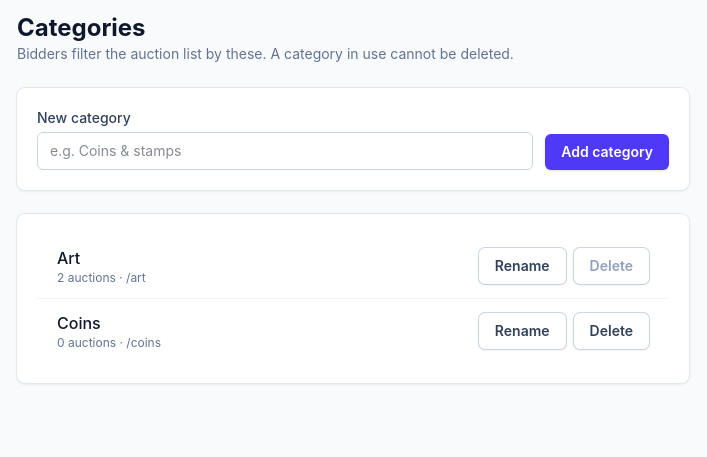
Test: <AdminCategoriesPage> › asks for a name instead of sending an empty one
Click the button "Add category" at [607, 152], box [545,134,669,170]
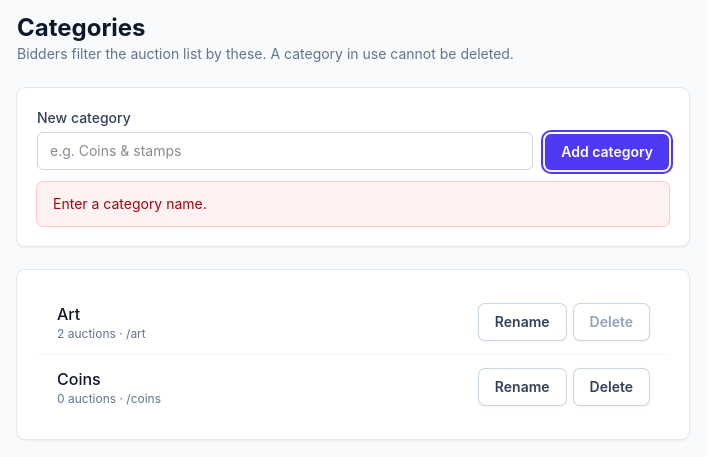
Check: the text "Enter a category name." is shown, box [37,182,669,226]
